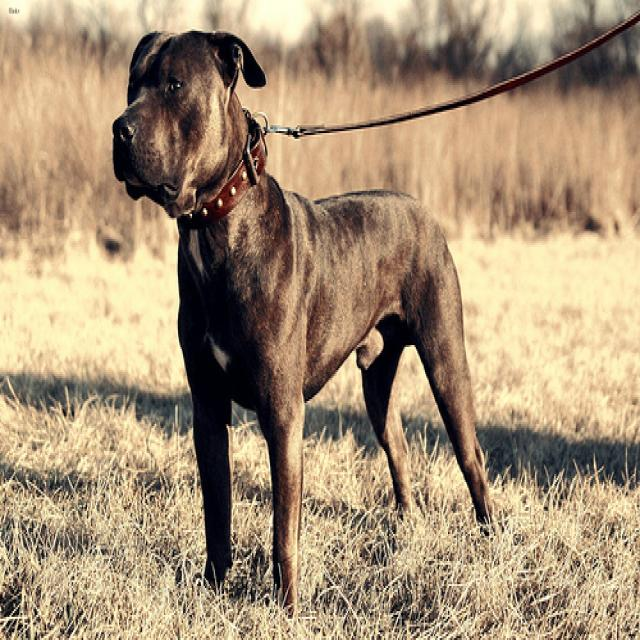dog-american_pit_bull_terrier: (104, 15, 498, 617)
